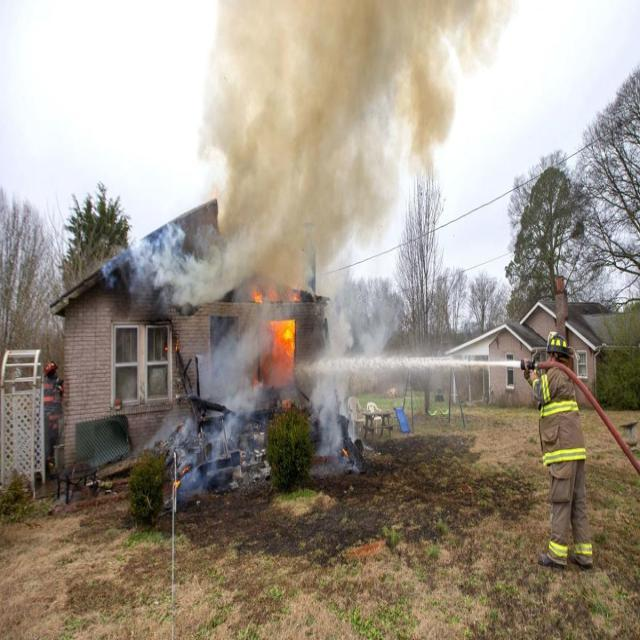Smoke: (220, 0, 448, 157), (218, 174, 352, 282), (188, 332, 256, 494), (323, 290, 359, 450), (136, 230, 208, 306)
